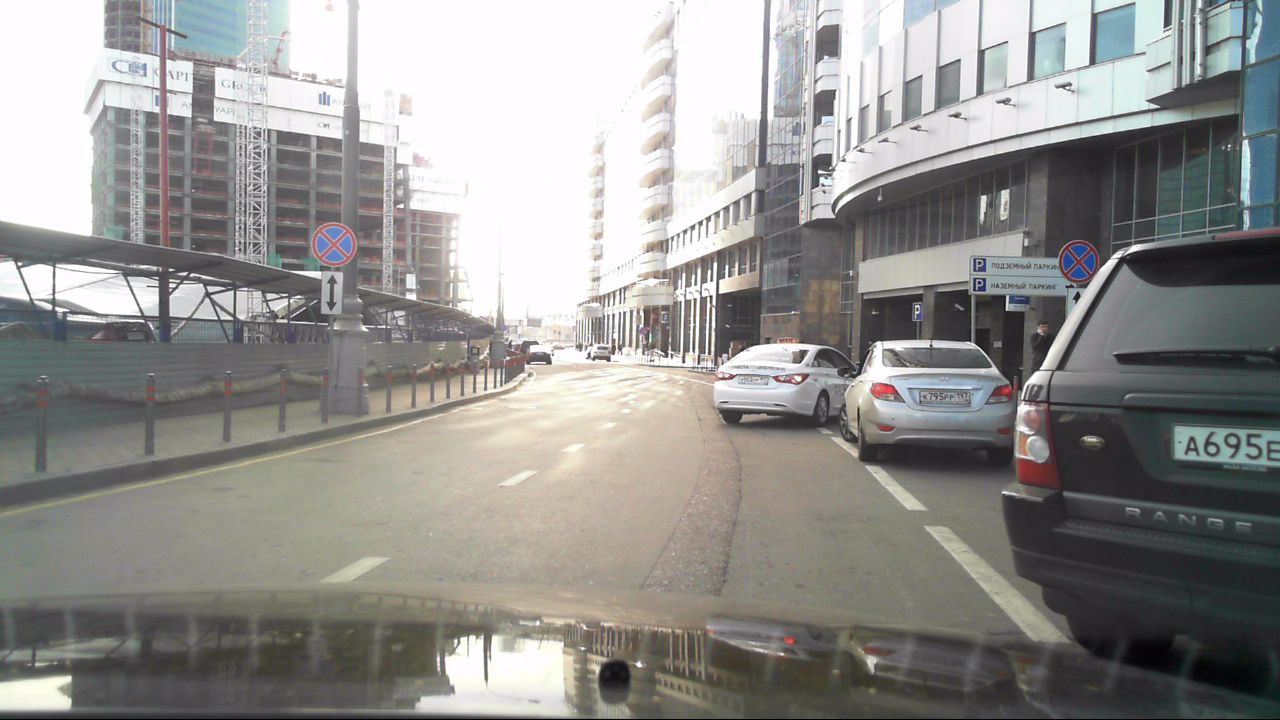No Parking: (1057, 241, 1098, 284)
